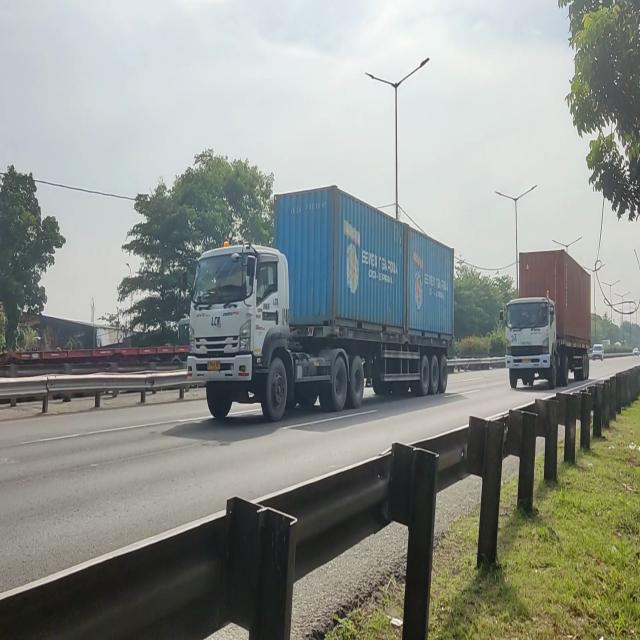Golongan V: (187, 190, 455, 428)
